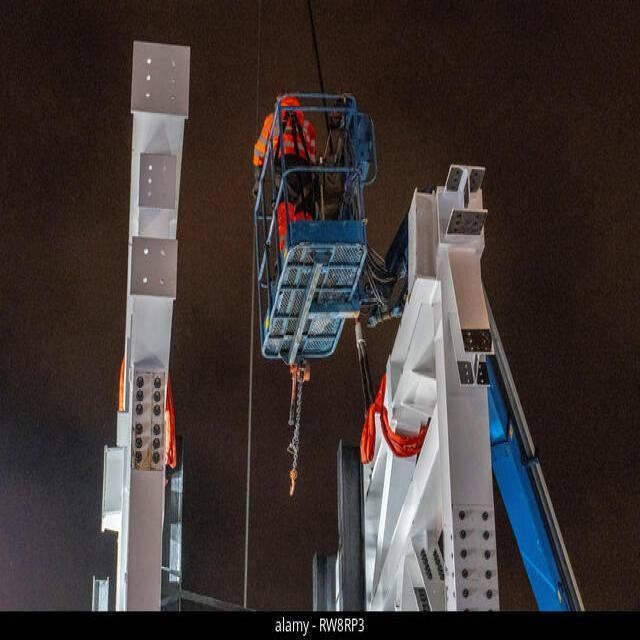Arnes_seguridad: (274, 107, 316, 207)
